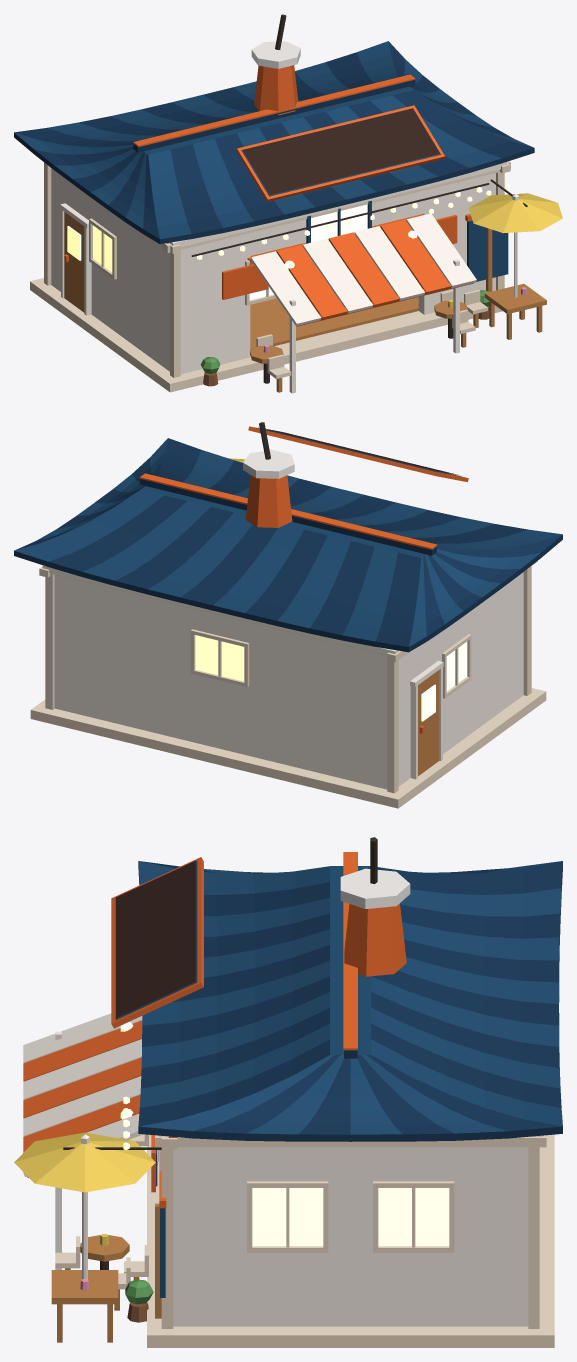
Rendered from shop.glb.
3 views of the same model, one above another, from view 1: azimuth 30°, elevation 25°; view 2: azimuth 150°, elevation 25°; view 3: azimuth 270°, elevation 25° (orthographic). The views are drawn at different scales.
Visible parts, largest first — view 1: roof, walls, awning, base, sign_face, umbrella, roof_ridge, mascot, door, windows_glow, sign, menu_board (+9 smaller); view 2: walls, roof, base, mascot, roof_ridge, door, windows_glow, frames, roof_plate, sign, eaves_fascia; view 3: roof, walls, awning, base, sign_face, umbrella, windows_glow, mascot, frames, eaves_fascia, sign, seats (+3 smaller).
Boxes of the visible parts, left/top/right/bottom form: roof: left=14, top=41, right=534, bottom=244; walls: left=44, top=162, right=504, bottom=377; awning: left=250, top=213, right=476, bottom=393; base: left=30, top=278, right=502, bottom=392; sign_face: left=242, top=108, right=439, bottom=195; umbrella: left=464, top=193, right=562, bottom=339; roof_ridge: left=133, top=74, right=415, bottom=152; mascot: left=251, top=14, right=300, bottom=115; door: left=60, top=203, right=91, bottom=315; windows_glow: left=67, top=204, right=367, bottom=300; sign: left=236, top=105, right=445, bottom=201; menu_board: left=465, top=214, right=508, bottom=291; walls: left=45, top=566, right=531, bottom=793; roof: left=14, top=438, right=562, bottom=652; base: left=30, top=688, right=546, bottom=808; mascot: left=243, top=422, right=294, bottom=527; roof_ridge: left=139, top=473, right=437, bottom=555; door: left=410, top=660, right=443, bottom=779; windows_glow: left=195, top=635, right=467, bottom=721; frames: left=190, top=629, right=471, bottom=698; roof_plate: left=42, top=565, right=399, bottom=655; sign: left=248, top=426, right=468, bottom=482; eaves_fascia: left=39, top=561, right=537, bottom=662; roof: left=138, top=861, right=562, bottom=1141; walls: left=161, top=1147, right=539, bottom=1328; awning: left=23, top=1013, right=142, bottom=1269; base: left=147, top=1134, right=554, bottom=1347; sign_face: left=116, top=860, right=195, bottom=1017; umbrella: left=14, top=1132, right=155, bottom=1342; windows_glow: left=252, top=1188, right=449, bottom=1246; mascot: left=340, top=837, right=410, bottom=976; frames: left=247, top=1181, right=454, bottom=1252; eaves_fascia: left=155, top=1135, right=546, bottom=1149; sign: left=111, top=857, right=203, bottom=1028; seats: left=55, top=1134, right=148, bottom=1279.
Size of the model in its own units: 5.56 by 3.83 by 4.79.
